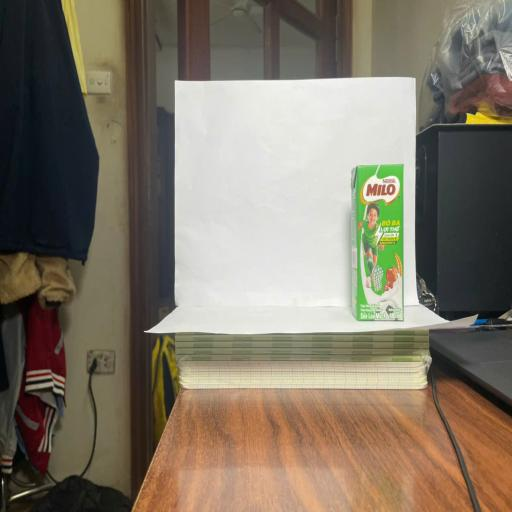milo: (351, 164, 405, 322)
